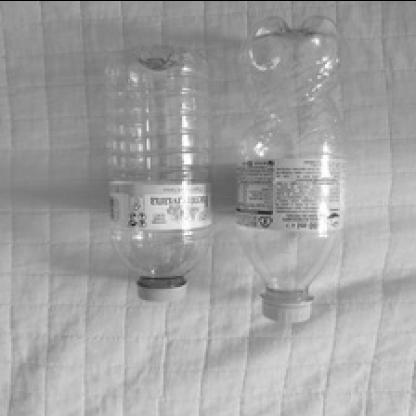plastic_bottles: (230, 15, 356, 328), (102, 40, 220, 309)
